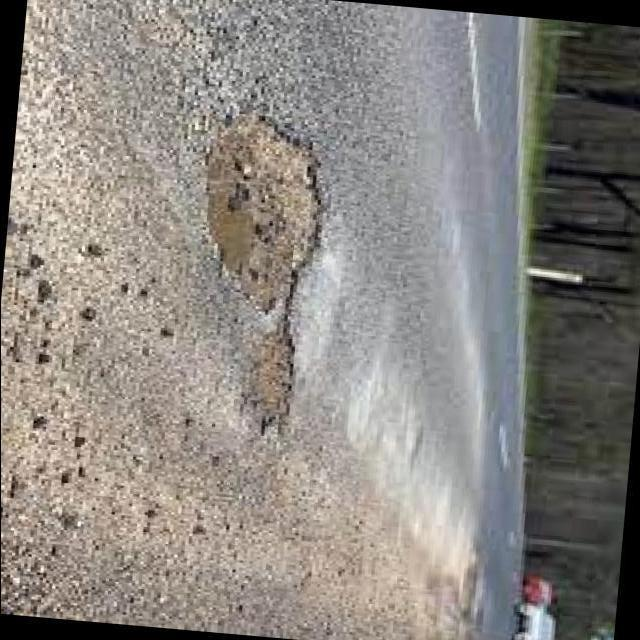pothole: (203, 111, 321, 313)
